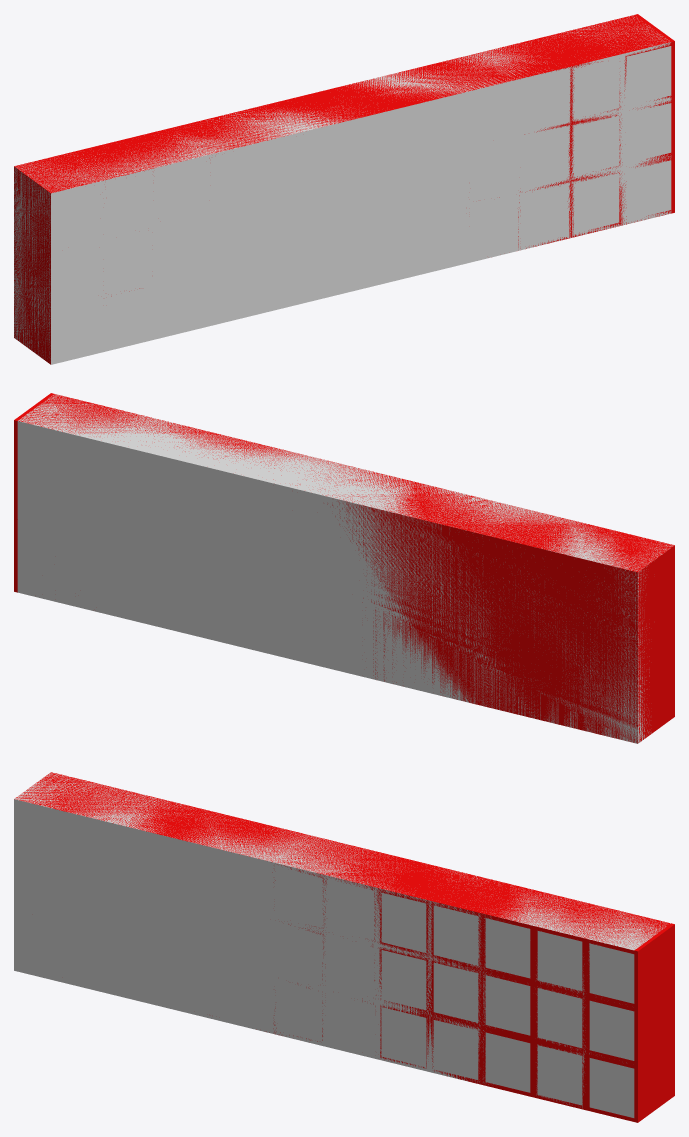
File: cubbies.FBX
3 renders of one model, top to bottom at view 1: azimuth 30°, elevation 25°; view 2: azimuth 150°, elevation 25°; view 3: azimuth 330°, elevation 25°, orthographic.
Visible parts, largest first — view 1: cabinet_colission, Cabinet; view 2: cabinet_colission, Cabinet; view 3: cabinet_colission, Cabinet.
Boxes of the visible parts, x1,y1,x2,y2 form: cabinet_colission: (14,15,671,364); Cabinet: (14,14,674,364); cabinet_colission: (17,394,673,743); Cabinet: (14,393,674,743); cabinet_colission: (14,772,670,1117); Cabinet: (14,772,674,1122).
Size of the model in its own units: 60753 by 15963 by 6254.
